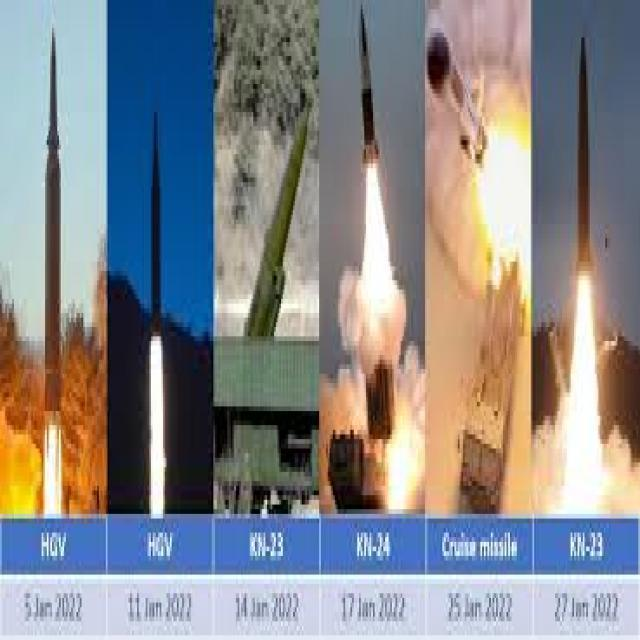Missile: (242, 79, 314, 347), (42, 20, 65, 436), (354, 2, 389, 178), (576, 25, 596, 294), (146, 100, 167, 345)
